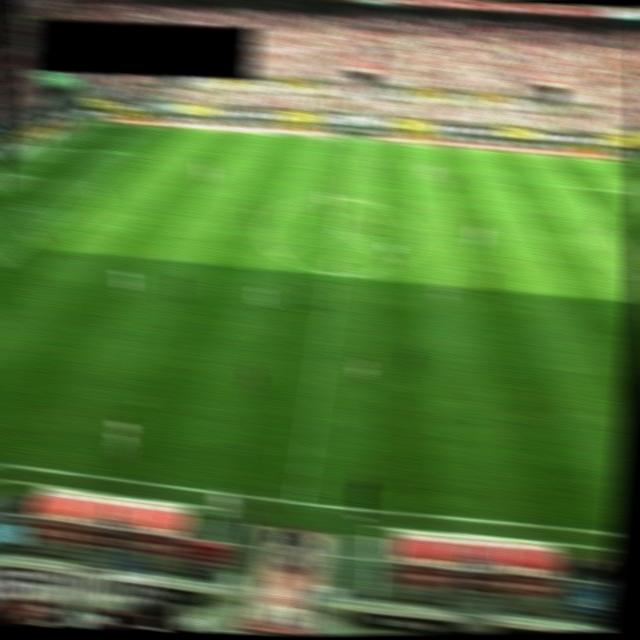bigarea_top_inner: (564, 177, 590, 195), (120, 144, 144, 162)
bigarea_top_outter: (30, 138, 53, 153)
bottom_arc_area_intersection: (21, 229, 46, 248)
corner: (73, 112, 100, 128), (621, 152, 640, 170)
halfcircle_bottom: (321, 259, 350, 285)
halfcircle_top: (331, 185, 361, 208)
midline_bottom_intersection: (282, 483, 320, 515)
midline_top_intersection: (340, 127, 368, 147)
smallarea_top_inner: (16, 167, 42, 186)
top_arc_area_intersection: (592, 214, 619, 233), (80, 177, 105, 194)
